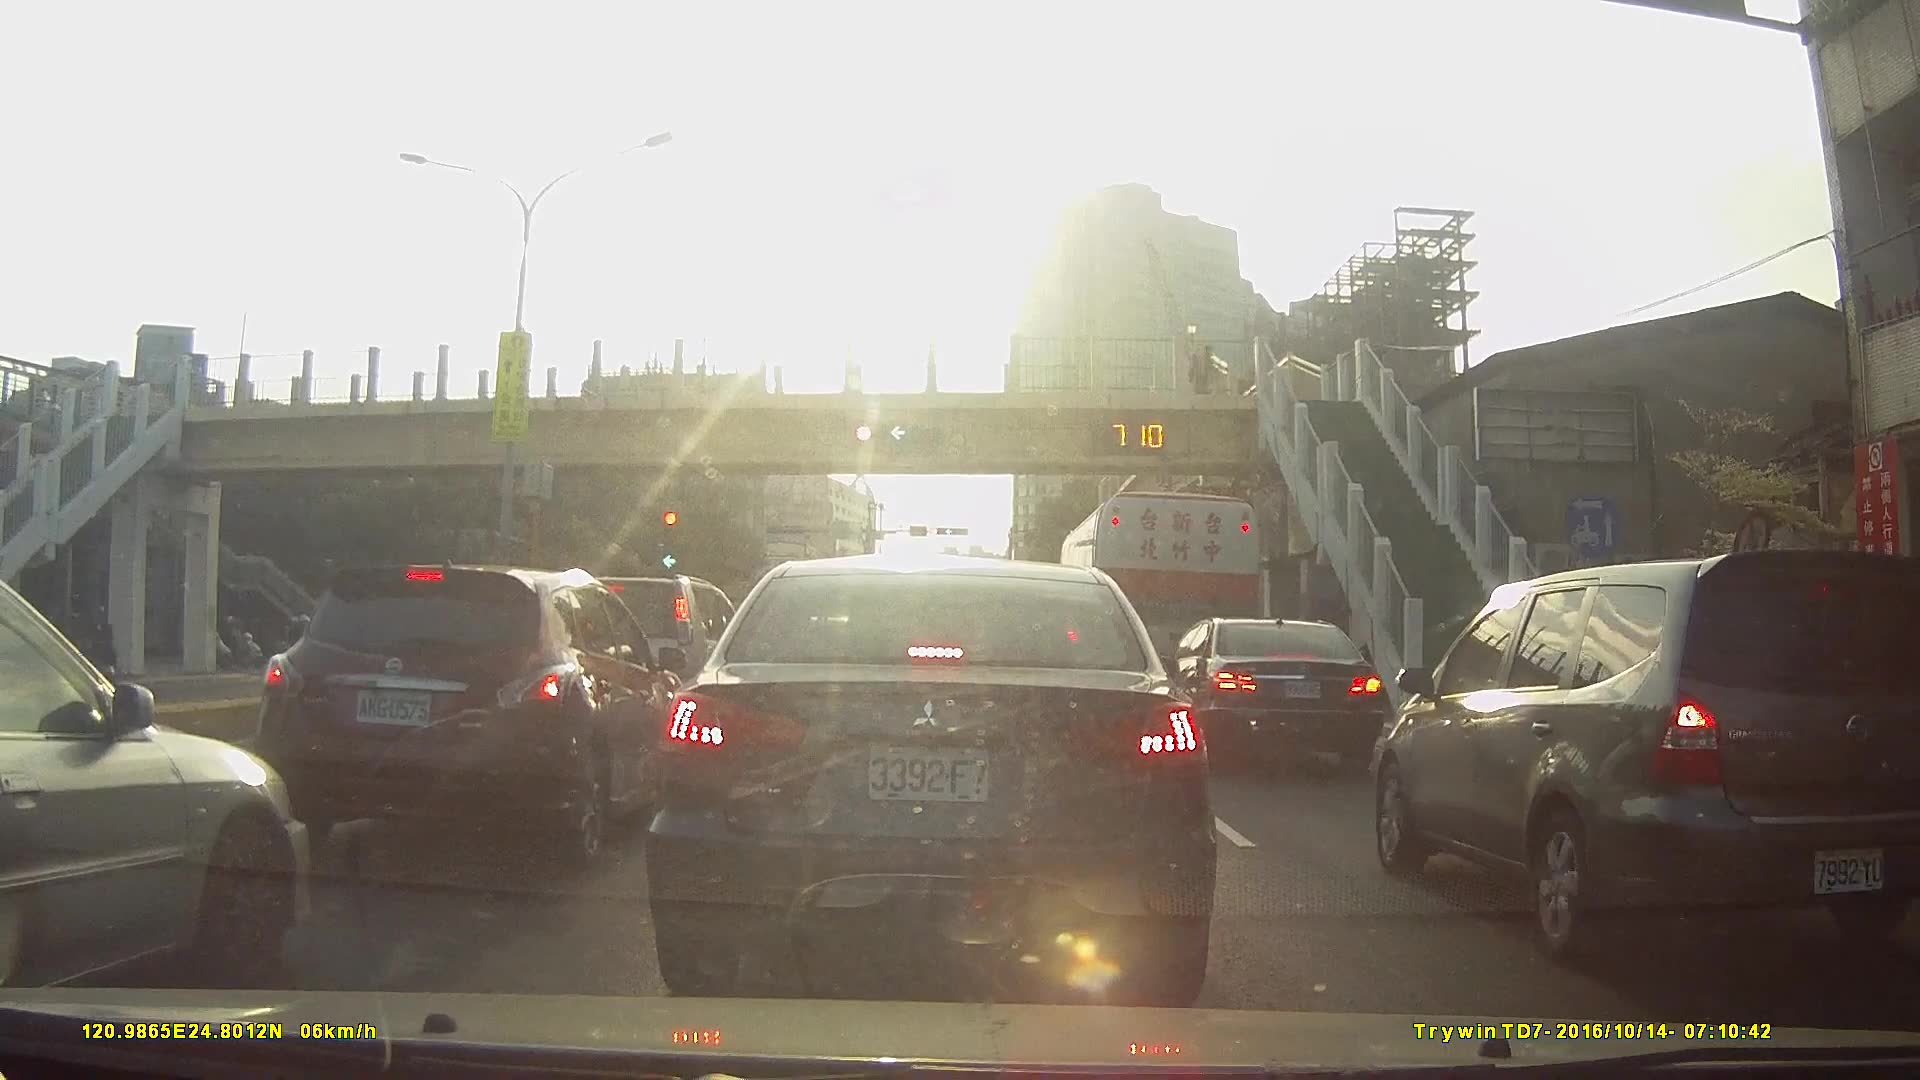pedestrian: (1188, 343, 1215, 400)
rider: (71, 596, 120, 684), (209, 613, 267, 669)
vehicle: (643, 552, 1218, 1004), (1372, 548, 1920, 959), (252, 558, 694, 868), (0, 572, 314, 1004), (1056, 487, 1262, 730), (1154, 614, 1387, 769)
